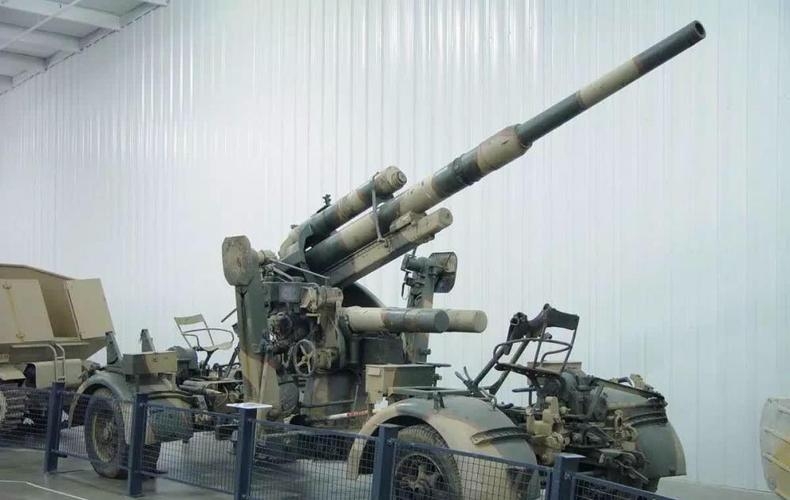MIL_SPG: (69, 22, 705, 491)
